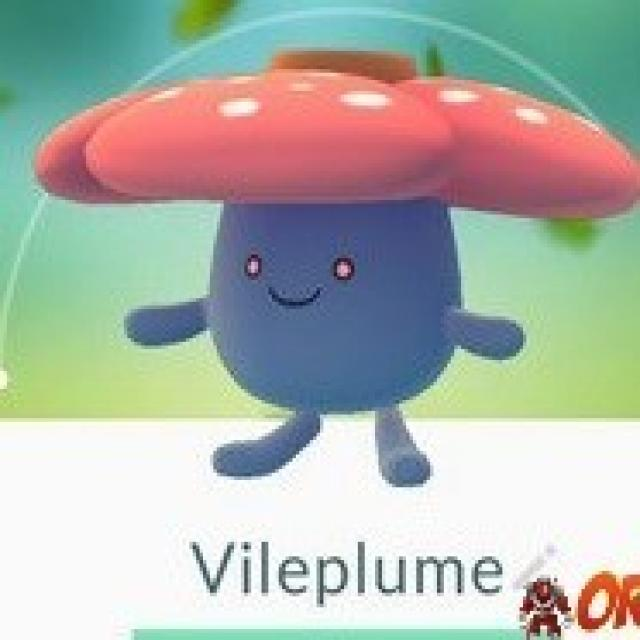Vileplume: (124, 54, 528, 482)
